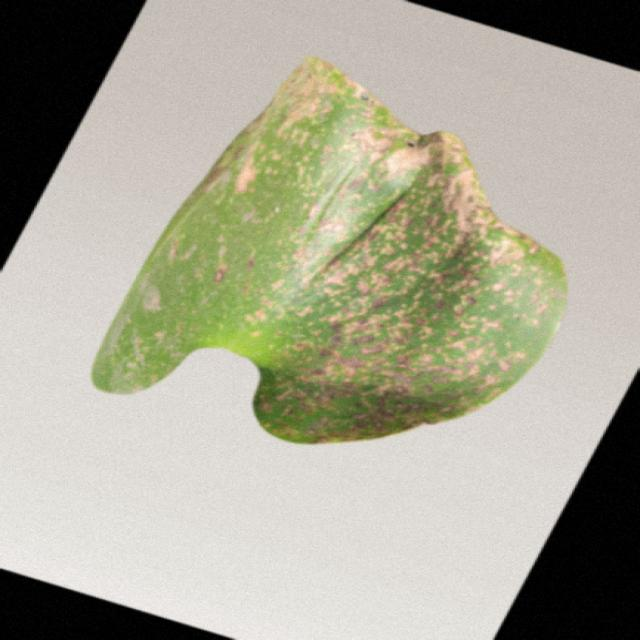daun berpenyakit bercak: (92, 58, 566, 444)
